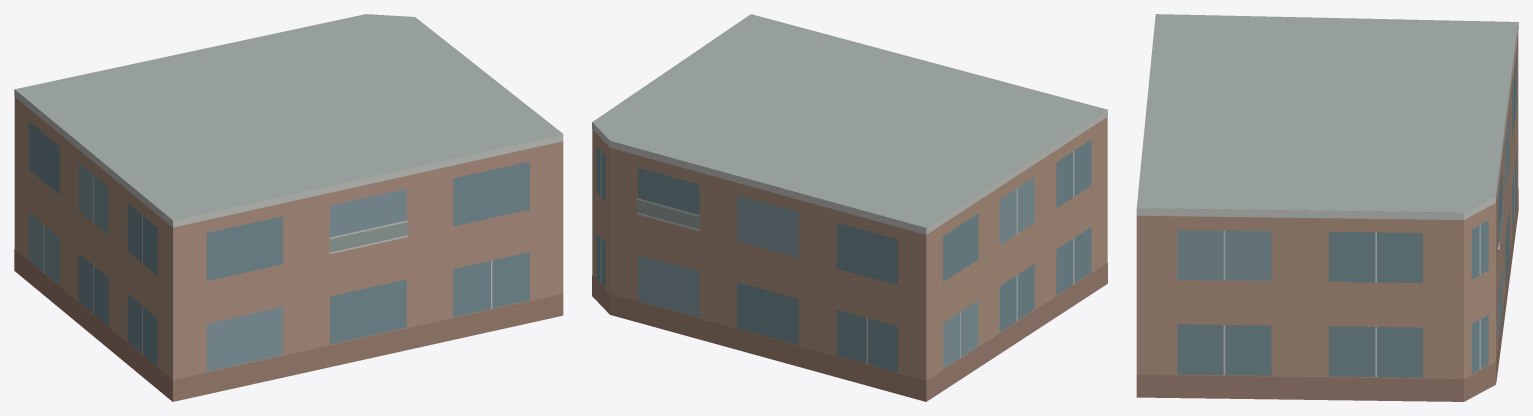
File: survey-upis-32872184.glb
3 views of the same model, side by side, from view 1: azimuth 30°, elevation 25°; view 2: azimuth 150°, elevation 25°; view 3: azimuth 270°, elevation 25° (orthographic). The views are drawn at different scales.
Parts seen in each view (by area): view 1: survey-upis-32872184.tmp; view 2: survey-upis-32872184.tmp; view 3: survey-upis-32872184.tmp.
Boxes of the visible parts, x1,y1,x2,y2 form: survey-upis-32872184.tmp: [14, 14, 563, 401]; survey-upis-32872184.tmp: [592, 14, 1107, 401]; survey-upis-32872184.tmp: [1136, 14, 1518, 401].
Size of the model in its own units: 13.73 by 6.1 by 11.16.
